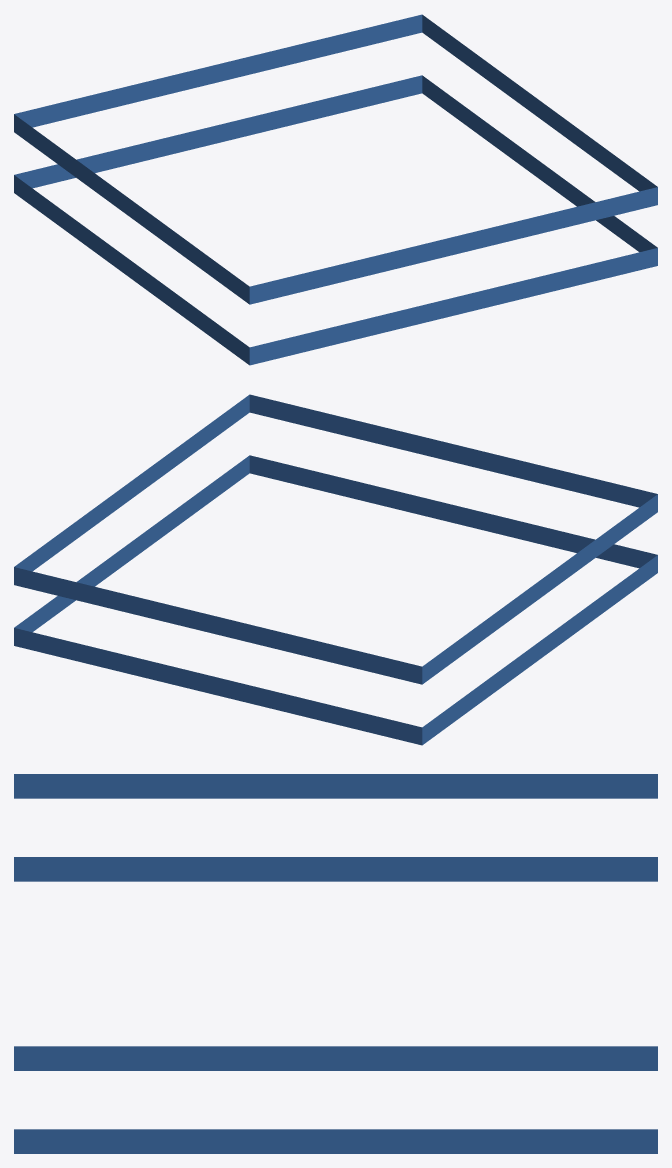
Rendered from Light_Decor9.glb.
3 views of the same model, one above another, from view 1: azimuth 30°, elevation 25°; view 2: azimuth 150°, elevation 25°; view 3: azimuth 270°, elevation 25° (orthographic). The views are drawn at different scales.
Visible parts, largest first — view 1: buildings_light_decor_08_geo; view 2: buildings_light_decor_08_geo; view 3: buildings_light_decor_08_geo.
Boxes of the visible parts, bbox=[...] form: buildings_light_decor_08_geo: bbox=[14, 14, 657, 365]; buildings_light_decor_08_geo: bbox=[14, 394, 657, 745]; buildings_light_decor_08_geo: bbox=[14, 774, 657, 1153].
Size of what is drawn, in the model's own units: 9.49 by 1.75 by 9.49.
Materials: 1 (1 with a texture image).
